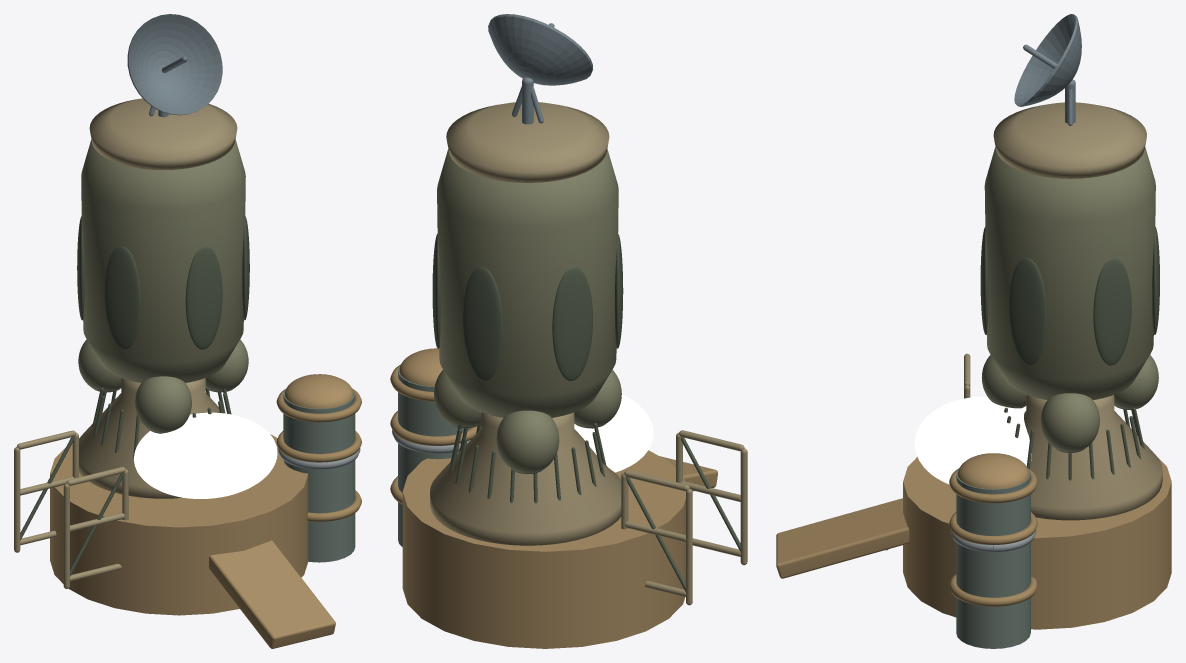
Rendered from ore-teleporter.glb.
The picture shows the model from 3 angles, left to right: view 1: azimuth 30°, elevation 25°; view 2: azimuth 150°, elevation 25°; view 3: azimuth 270°, elevation 25°; orthographic projection. The views are drawn at different scales.
Parts seen in each view (by area): view 1: Research rounded ore scan chamber, Foundation drum, Research luminous transfer chamber, Research scan chamber crown, Transfer ramp, Research tilted transceiver dish, Cylindrical tower.002, Research lower scan pedestal, Research chamber inset oval.005, Research chamber inset oval, Research atomic scanner 2, Tower crown.002 (+10 smaller); view 2: Research rounded ore scan chamber, Foundation drum, Research lower scan pedestal, Research scan chamber crown, Research tilted transceiver dish, Research chamber inset oval.003, Research chamber inset oval.004, Research atomic scanner 1, Research luminous transfer chamber, Cylindrical tower.002, Research atomic scanner 0, Research atomic scanner 2 (+12 smaller); view 3: Research rounded ore scan chamber, Foundation drum, Research lower scan pedestal, Cylindrical tower.002, Research scan chamber crown, Research luminous transfer chamber, Transfer ramp, Research tilted transceiver dish, Research chamber inset oval.002, Research chamber inset oval.001, Research atomic scanner 0, Tower crown.002 (+8 smaller).
Part boxes in pixels (left/top/right/bottom): Research rounded ore scan chamber: left=81, top=139, right=245, bottom=382; Foundation drum: left=50, top=434, right=308, bottom=615; Research luminous transfer chamber: left=134, top=412, right=277, bottom=498; Research scan chamber crown: left=89, top=98, right=237, bottom=170; Transfer ramp: left=209, top=540, right=335, bottom=648; Research tilted transceiver dish: left=127, top=14, right=222, bottom=115; Cylindrical tower.002: left=283, top=389, right=355, bottom=562; Research lower scan pedestal: left=79, top=378, right=224, bottom=498; Research chamber inset oval.005: left=104, top=246, right=141, bottom=349; Research chamber inset oval: left=185, top=246, right=222, bottom=349; Research atomic scanner 2: left=135, top=376, right=191, bottom=433; Tower crown.002: left=285, top=374, right=353, bottom=408; Research rounded ore scan chamber: left=437, top=149, right=618, bottom=417; Foundation drum: left=402, top=450, right=685, bottom=648; Research lower scan pedestal: left=430, top=412, right=621, bottom=545; Research scan chamber crown: left=446, top=102, right=609, bottom=182; Research tilted transceiver dish: left=488, top=14, right=592, bottom=85; Research chamber inset oval.003: left=462, top=267, right=503, bottom=380; Research chamber inset oval.004: left=552, top=267, right=592, bottom=380; Research atomic scanner 1: left=496, top=410, right=559, bottom=474; Research luminous transfer chamber: left=574, top=394, right=653, bottom=472; Cylindrical tower.002: left=398, top=365, right=471, bottom=546; Research atomic scanner 0: left=434, top=370, right=481, bottom=428; Research atomic scanner 2: left=574, top=370, right=621, bottom=428; Research rounded ore scan chamber: left=984, top=147, right=1155, bottom=399; Foundation drum: left=903, top=457, right=1171, bottom=629; Research lower scan pedestal: left=1024, top=395, right=1162, bottom=520; Cylindrical tower.002: left=956, top=469, right=1030, bottom=648; Research scan chamber crown: left=993, top=102, right=1146, bottom=178; Research luminous transfer chamber: left=914, top=397, right=1031, bottom=484; Transfer ramp: left=776, top=498, right=909, bottom=578; Research tilted transceiver dish: left=1014, top=14, right=1081, bottom=106; Research chamber inset oval.002: left=1093, top=258, right=1131, bottom=365; Research chamber inset oval.001: left=1009, top=258, right=1047, bottom=365; Research atomic scanner 0: left=1040, top=393, right=1099, bottom=452; Tower crown.002: left=957, top=453, right=1029, bottom=489.
Bounding box in the file's own units: 1.67 × 2.78 × 1.8.
